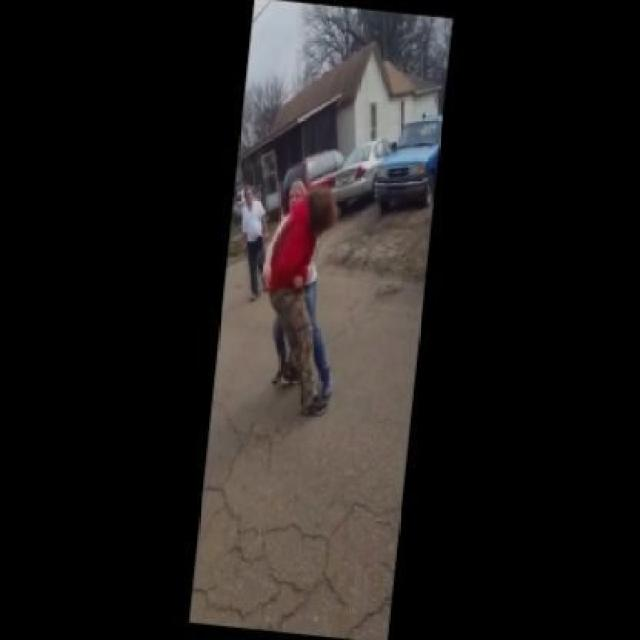fight: (266, 177, 337, 422)
non-fight: (238, 184, 266, 295)
